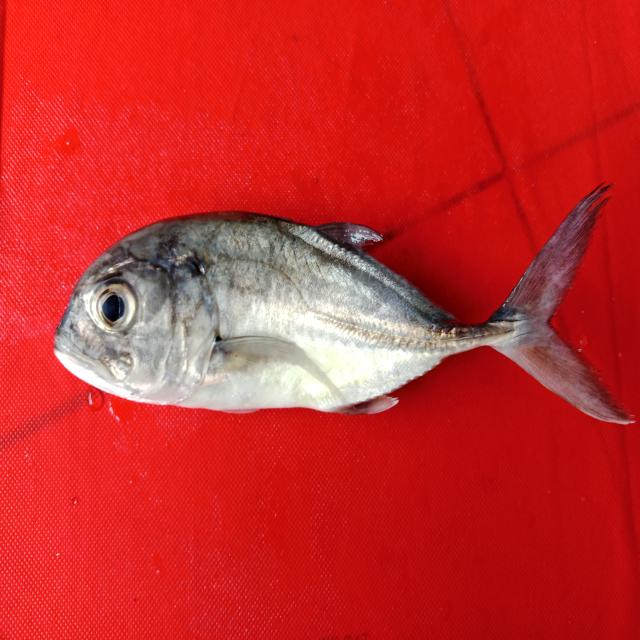ikan: (20, 157, 633, 453)
